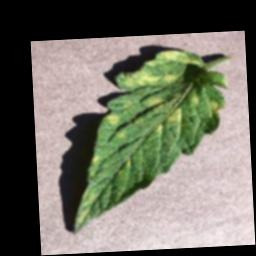Leaf_Mold: (115, 48, 204, 90), (152, 106, 184, 134), (207, 98, 225, 117), (102, 112, 122, 129), (91, 155, 101, 168)
